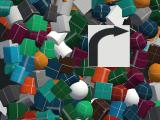Right: (88, 25, 130, 67)
